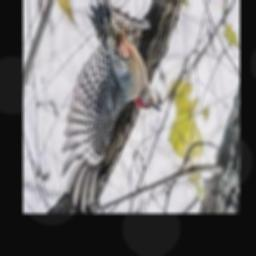Woodpecker: (62, 0, 160, 214)
